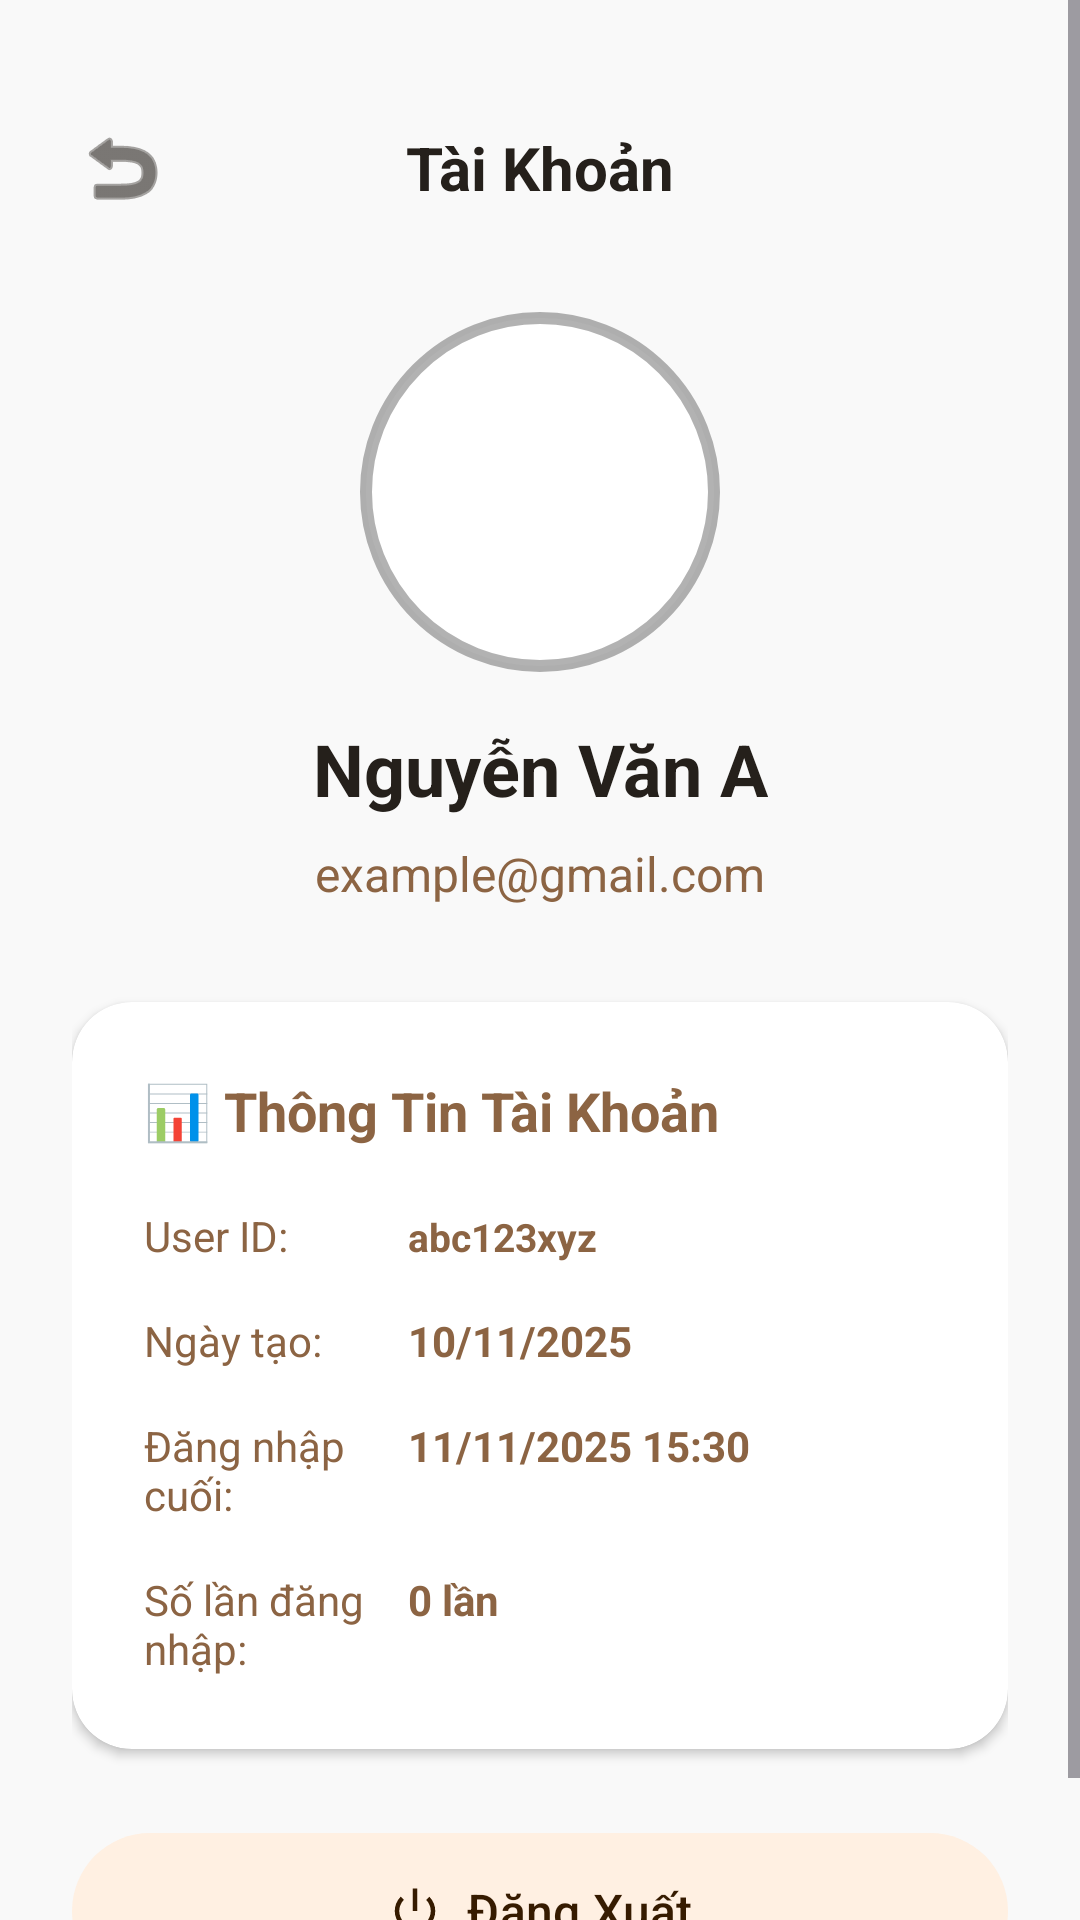

Icon bounding boxes for this 1080 × 1920 phone screenshot, format detection(x1, y1, x2, y2):
Quay lại: detection(89, 137, 158, 200)
